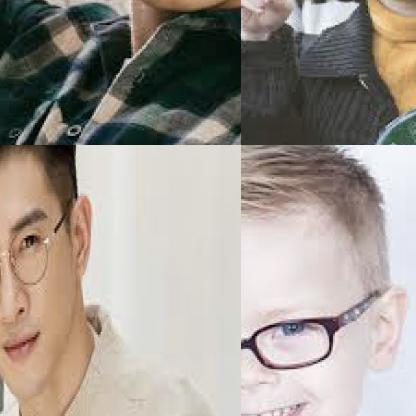glasses: (241, 315, 352, 378), (0, 225, 57, 316)
